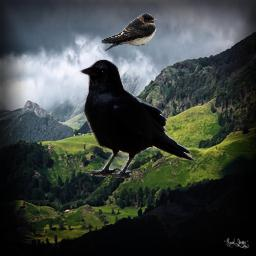Crow: (77, 58, 197, 178)
Swallow: (101, 13, 157, 51)
